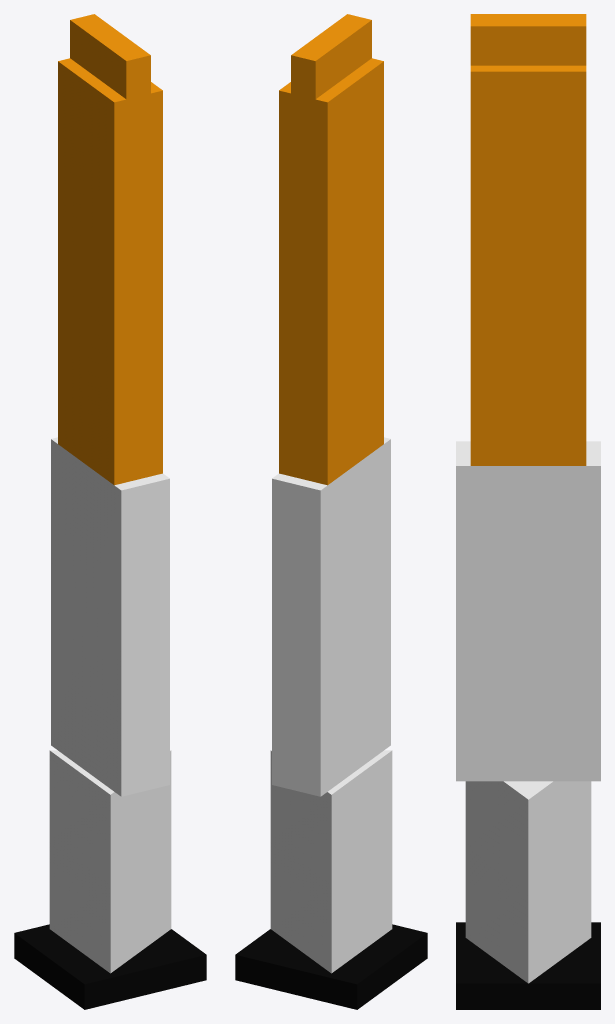
File: arips_arm.dae
3 renders of one model, left to right at view 1: azimuth 30°, elevation 25°; view 2: azimuth 150°, elevation 25°; view 3: azimuth 270°, elevation 25°, orthographic. The views are drawn at different scales.
Parts seen in each view (by area): view 1: link4, link3, link2, base_link, link5; view 2: link4, link3, link2, base_link, link5; view 3: link4, link3, link2, base_link, link5.
Boxes of the visible parts, bbox=[...] form: link4: bbox=[58, 58, 162, 485]; link3: bbox=[51, 437, 169, 796]; link2: bbox=[49, 750, 171, 973]; base_link: bbox=[14, 924, 206, 1009]; link5: bbox=[70, 14, 150, 137]; link4: bbox=[279, 58, 383, 485]; link3: bbox=[272, 437, 390, 796]; link2: bbox=[270, 750, 392, 973]; base_link: bbox=[235, 924, 427, 1009]; link5: bbox=[291, 14, 371, 137]; link4: bbox=[470, 65, 586, 465]; link3: bbox=[456, 441, 600, 781]; link2: bbox=[465, 781, 591, 983]; base_link: bbox=[456, 922, 600, 1009]; link5: bbox=[470, 14, 586, 65].
Size of what is drawn, in the model's own units: 0.05 by 0.05 by 0.365.
